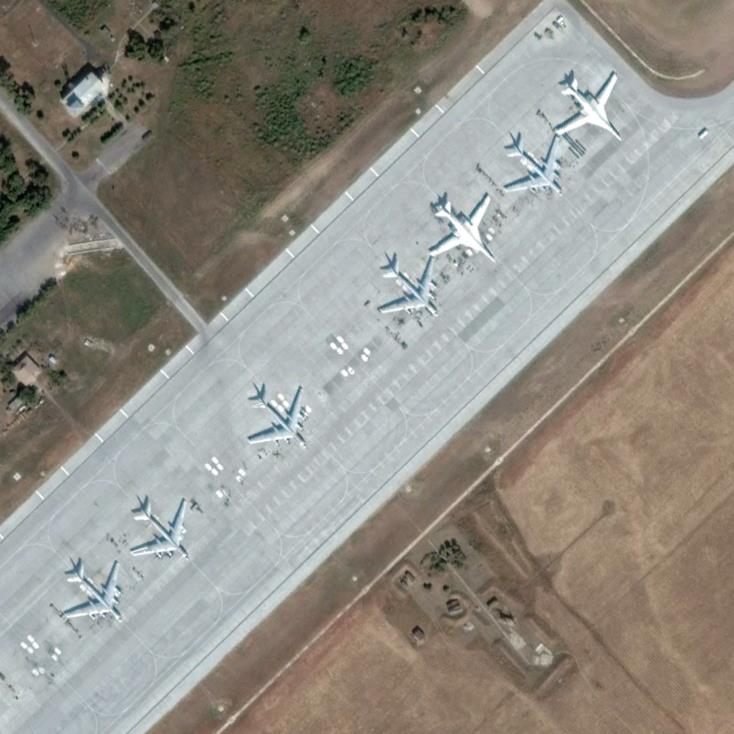A17: (246, 386, 310, 451), (377, 254, 439, 320), (130, 498, 191, 563), (64, 561, 123, 624), (503, 134, 562, 196)
A6: (427, 193, 497, 263), (555, 70, 623, 141)
